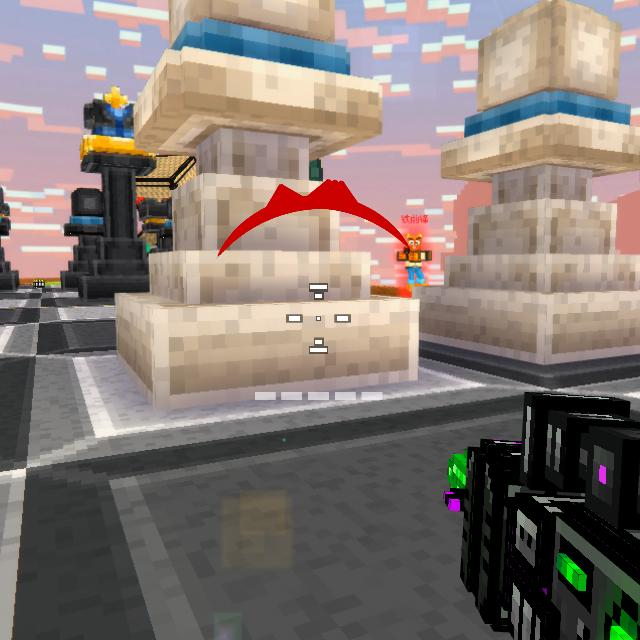Enemy: (397, 235, 432, 292)
